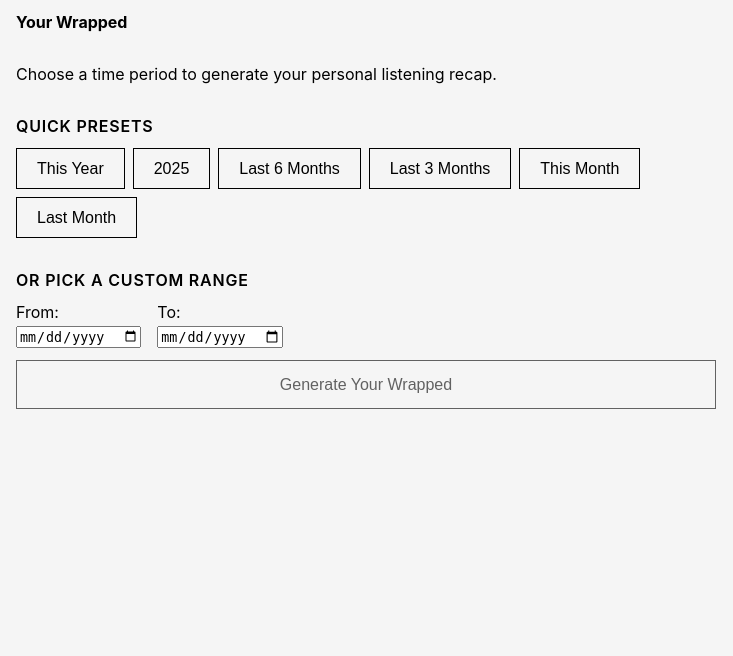
it: WrappedPage › should show error message when API fails
Step 1. Click the button "This Year" → point(70, 169), box [16,148,125,189]
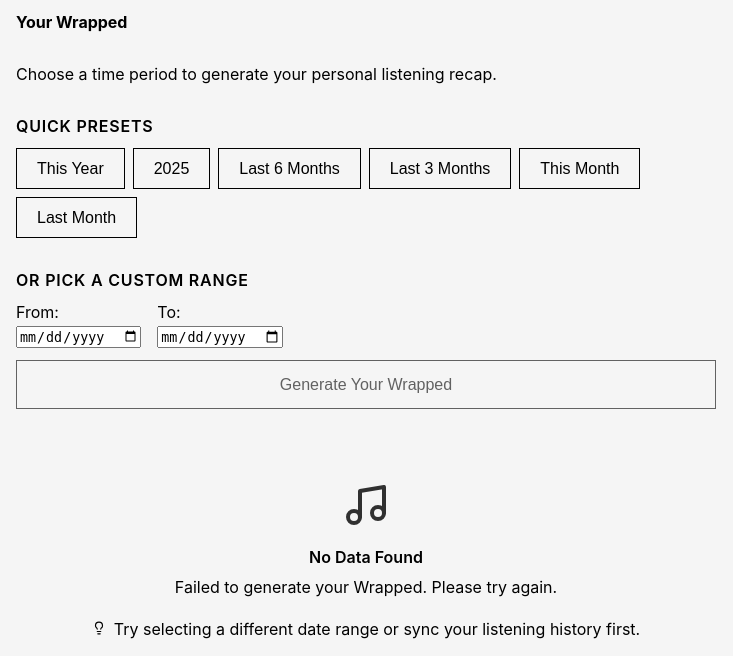
Expected: the text "Failed to generate your Wrapped. Please try again." is shown, [175,575,557,599]
